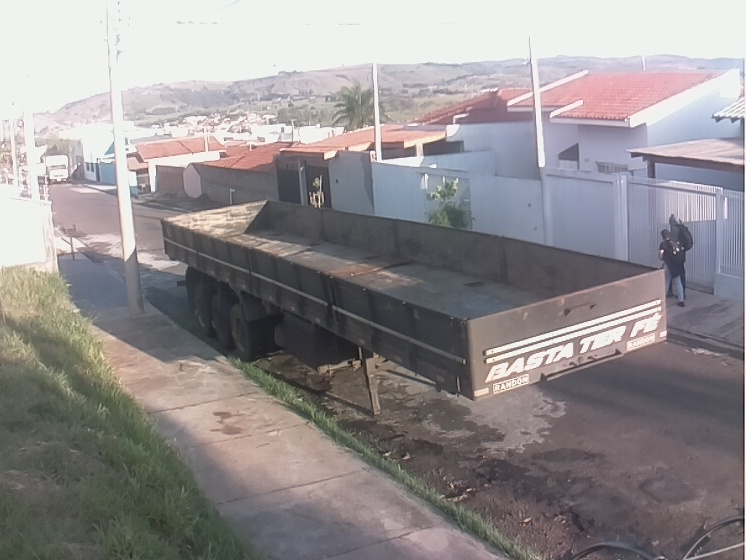person: (655, 228, 688, 309), (665, 212, 692, 301)
